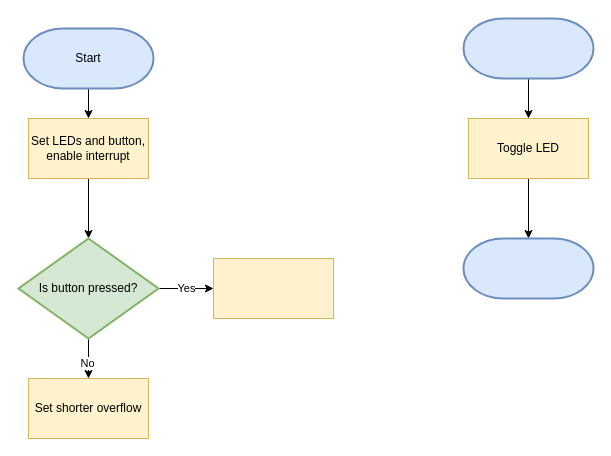
The diagram is 611 pixels wide and 456 high, and some of its shapes have lost their labels. The centre of each missing label's shape, as x and y in pixels:
"Exit interrupt" goes at point (528, 268).
"Interrupt" goes at point (528, 48).
"Set faster overflow" goes at point (273, 288).
